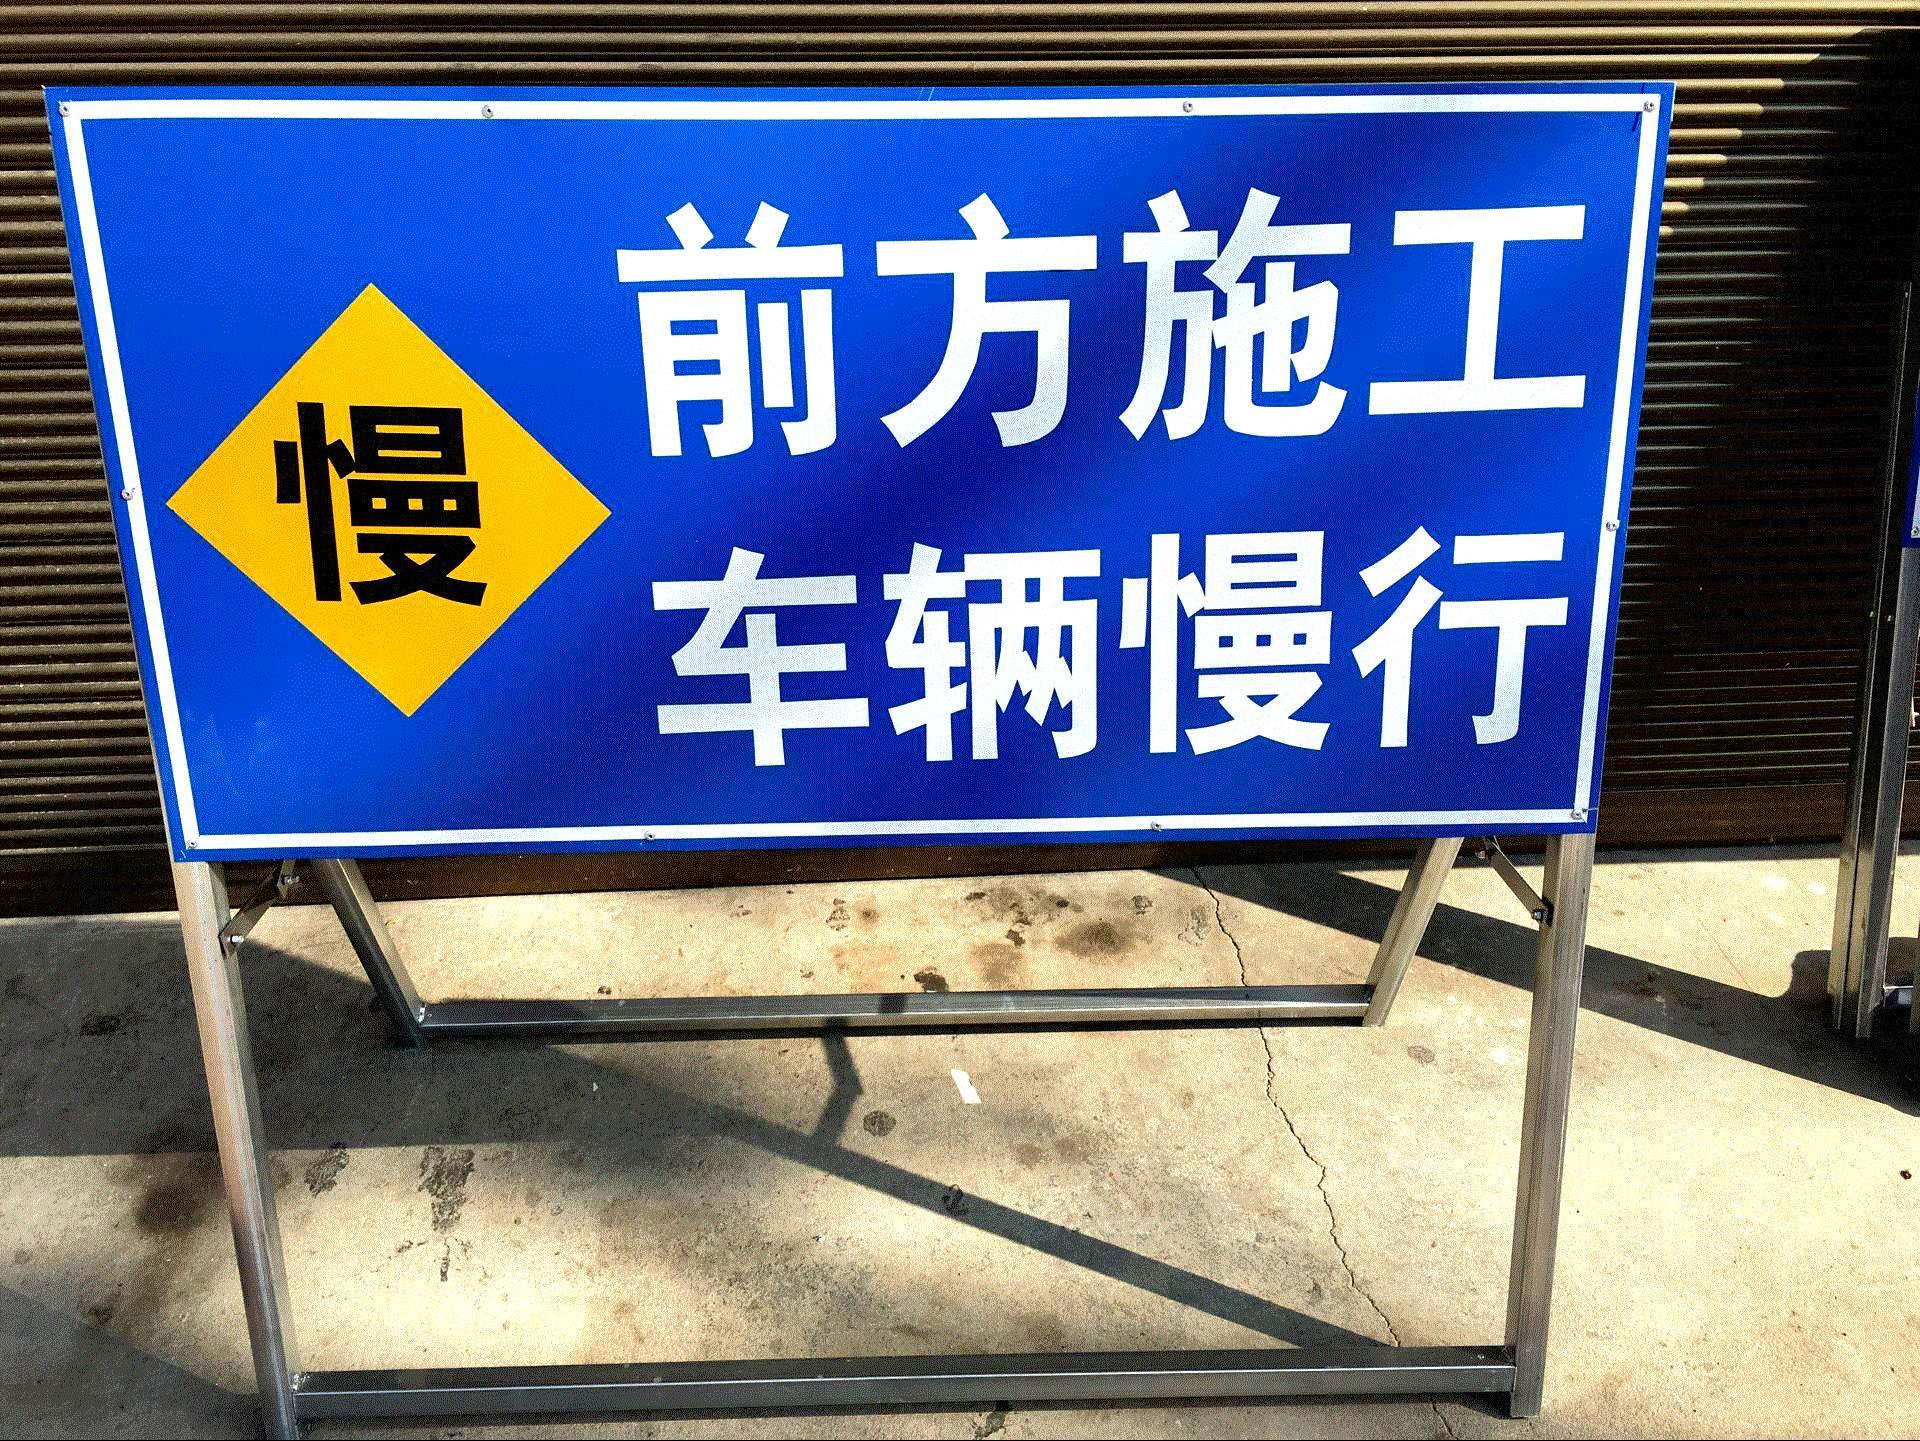sign: (51, 83, 1661, 836)
